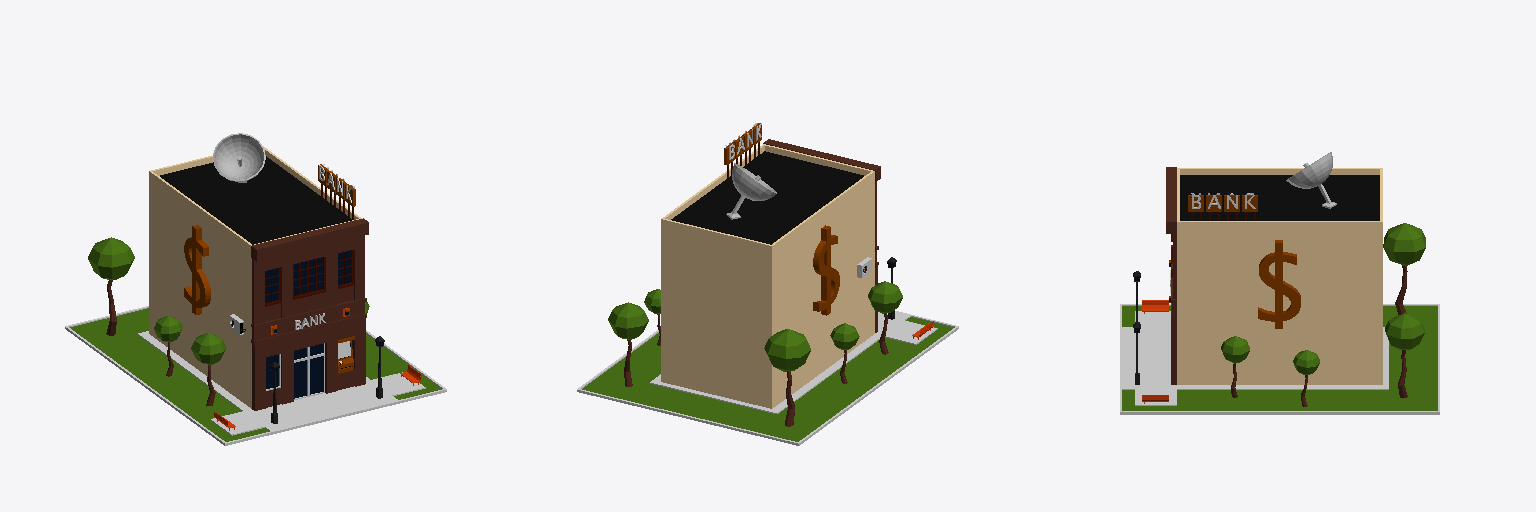
The model's file is bank.obj.
3 renders of one model, left to right at view 1: azimuth 30°, elevation 25°; view 2: azimuth 150°, elevation 25°; view 3: azimuth 270°, elevation 25°, orthographic.
Visible parts, largest first — view 1: bank_grp building, ground bank_grp, bank_grp dish, bank_grp tree1 tree_grp, bank_grp logo1 logo_grp, bank_grp tree_grp tree3, bank_grp tree_grp tree2, bank_grp billboard; view 2: bank_grp building, ground bank_grp, bank_grp tree1 tree_grp, bank_grp logo1 logo_grp, bank_grp tree_grp tree6, bank_grp dish, bank_grp tree_grp tree3, bank_grp tree_grp tree2, bank_grp billboard; view 3: bank_grp building, ground bank_grp, bank_grp logo_grp logo2, bank_grp tree1 tree_grp, bank_grp tree_grp tree6, bank_grp dish, bank_grp billboard, bank_grp tree_grp tree4, bank_grp tree_grp tree5.
Boxes of the visible parts, box(x1,y1,x2,y2) form: bank_grp building: box(149, 146, 368, 410); ground bank_grp: box(65, 306, 446, 445); bank_grp dish: box(213, 133, 265, 182); bank_grp tree1 tree_grp: box(88, 237, 134, 335); bank_grp logo1 logo_grp: box(184, 225, 210, 314); bank_grp tree_grp tree3: box(191, 333, 226, 405); bank_grp tree_grp tree2: box(154, 316, 182, 376); bank_grp billboard: box(318, 164, 355, 219); bank_grp building: box(661, 139, 880, 408); ground bank_grp: box(577, 311, 958, 445); bank_grp tree1 tree_grp: box(764, 329, 810, 426); bank_grp logo1 logo_grp: box(813, 225, 839, 315); bank_grp tree_grp tree6: box(608, 302, 648, 386); bank_grp dish: box(726, 163, 776, 219); bank_grp tree_grp tree3: box(868, 281, 902, 354); bank_grp tree_grp tree2: box(830, 323, 859, 383); bank_grp billboard: box(724, 123, 761, 178); bank_grp building: box(1166, 167, 1382, 384); ground bank_grp: box(1120, 304, 1439, 414); bank_grp logo_grp logo2: box(1258, 240, 1300, 328); bank_grp tree1 tree_grp: box(1383, 223, 1425, 314); bank_grp tree_grp tree6: box(1385, 313, 1424, 397); bank_grp dish: box(1286, 152, 1336, 208); bank_grp billboard: box(1188, 195, 1257, 220); bank_grp tree_grp tree4: box(1221, 336, 1249, 397); bank_grp tree_grp tree5: box(1293, 350, 1319, 406).
Size of the model in its own units: 2000 by 1792 by 2500.